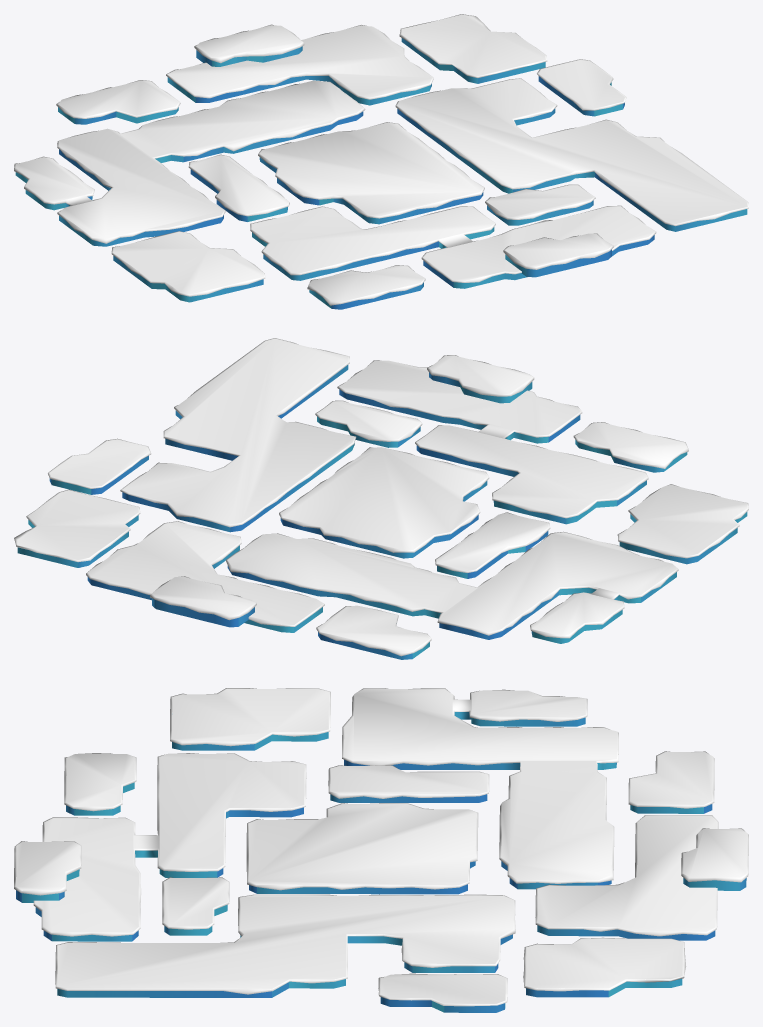
The model's file is Snow_Land.fbx.
The picture shows the model from 3 angles, top to bottom: view 1: azimuth 30°, elevation 25°; view 2: azimuth 150°, elevation 25°; view 3: azimuth 270°, elevation 25°; orthographic projection. The views are drawn at different scales.
Visible parts, largest first — view 1: Snow_Land; view 2: Snow_Land; view 3: Snow_Land.
Part boxes in pixels (box(x1,y1,x2,y2)): Snow_Land: box(14, 14, 748, 309); Snow_Land: box(14, 338, 748, 659); Snow_Land: box(14, 688, 748, 1012).
Bounding box in the file's own units: 9665 × 280 × 9482.
